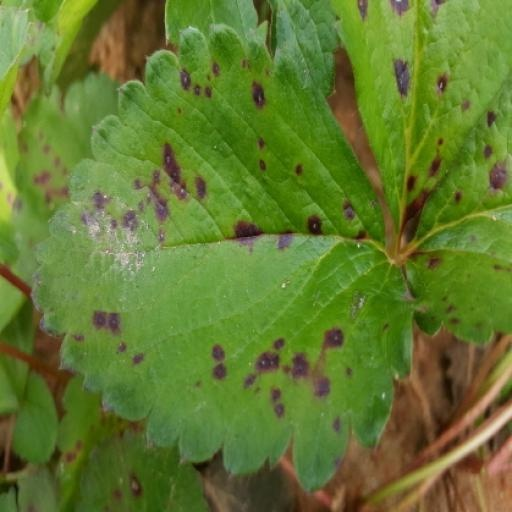Leaf Spot: (97, 23, 483, 493), (0, 73, 109, 346), (394, 70, 502, 285), (302, 419, 439, 511), (396, 374, 458, 511), (491, 104, 511, 270)
